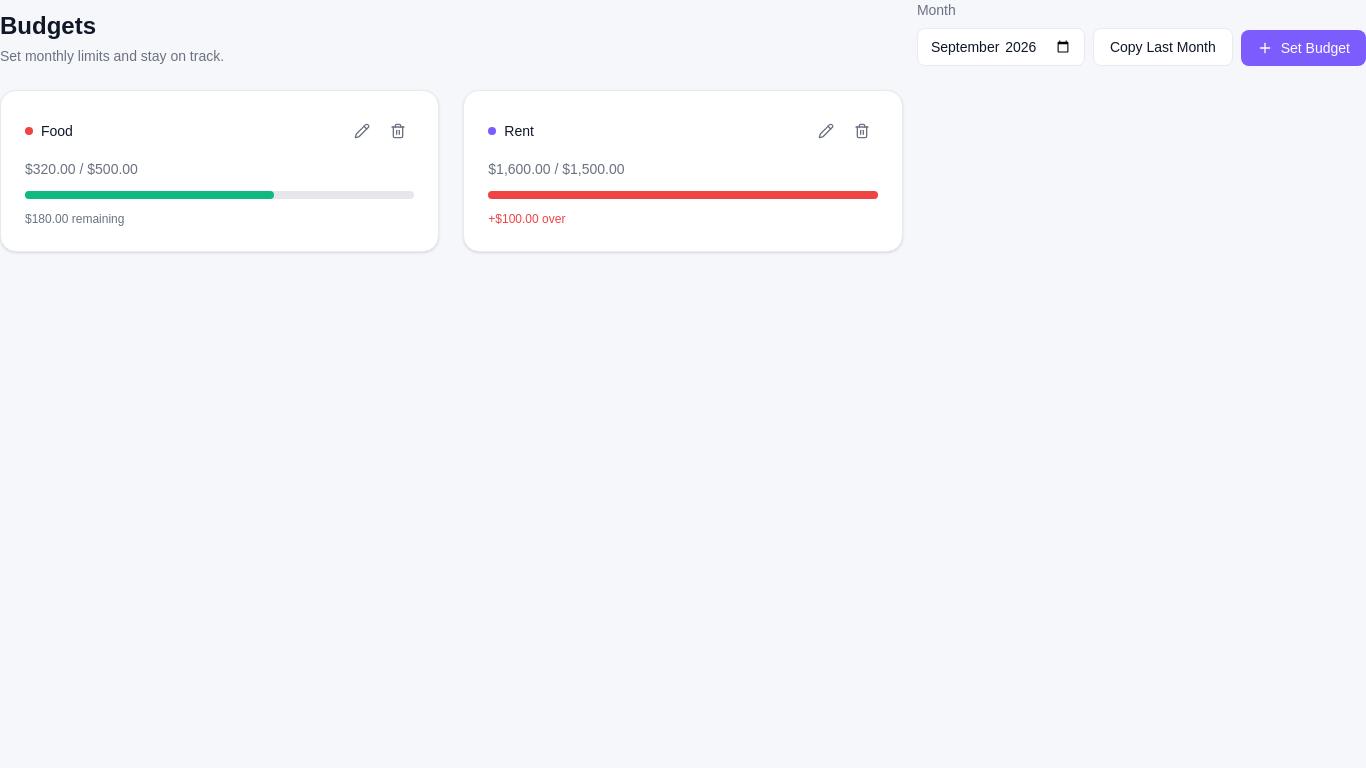
Test: BudgetsView › opens the delete dialog from a card action
Click the button named "Delete budget bud_1" at (398,131), box [382,115,414,147]
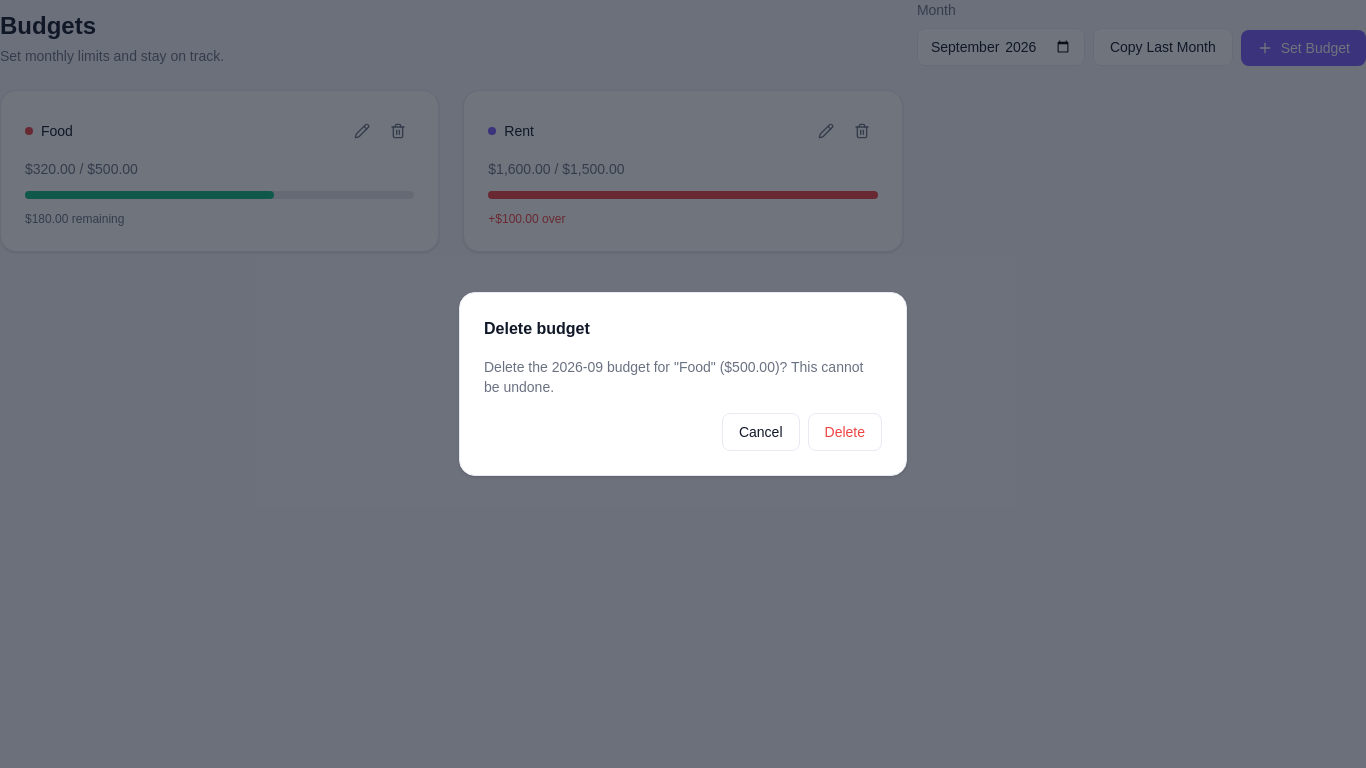
expect the dialog "Delete budget" is shown: met, box [459,292,907,476]
